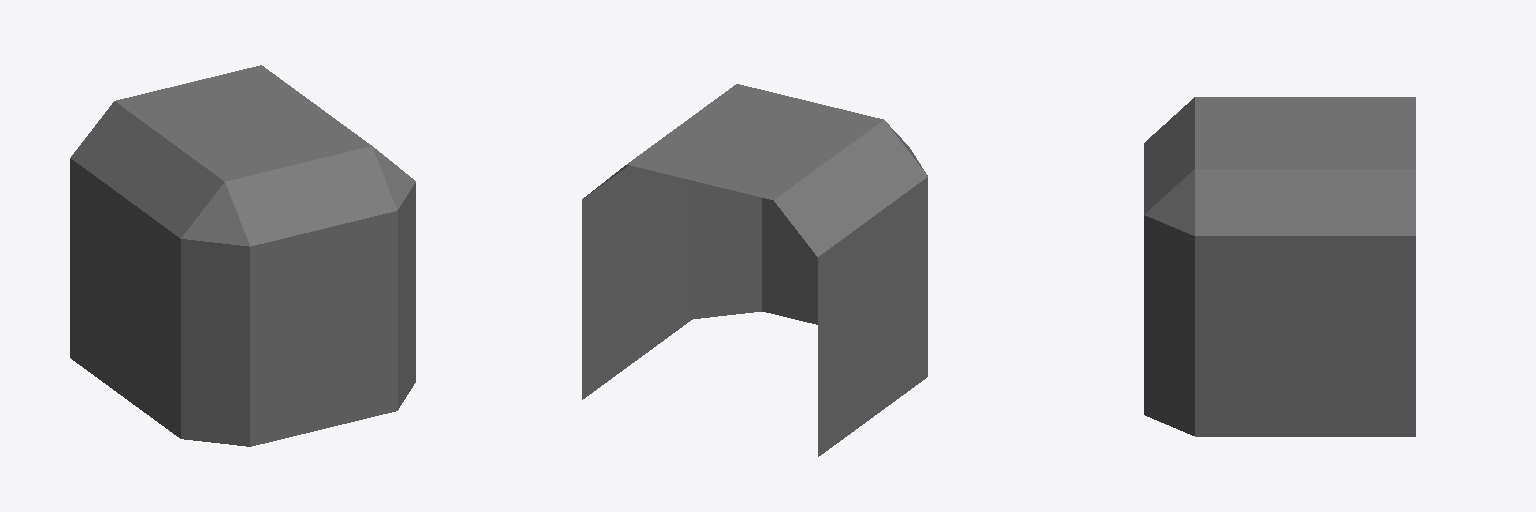
The model's file is end_top.obj.
The picture shows the model from 3 angles: view 1: azimuth 30°, elevation 25°; view 2: azimuth 150°, elevation 25°; view 3: azimuth 270°, elevation 25°; orthographic projection.
Bounding box in the file's own units: 1 × 1 × 1.